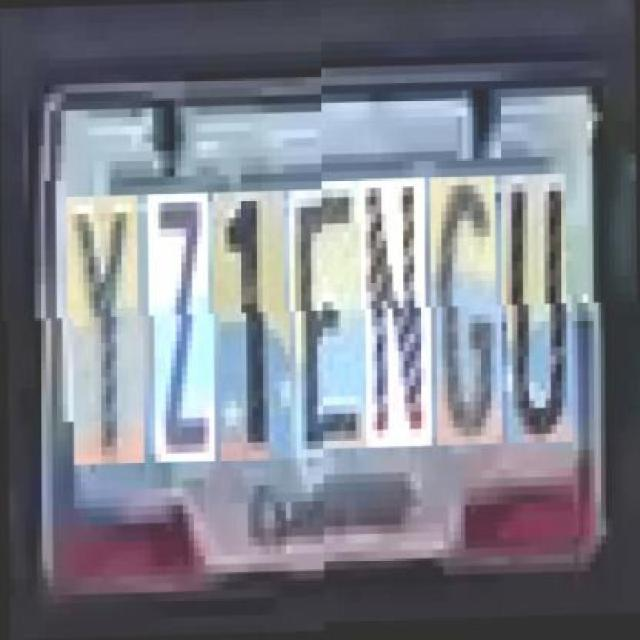1: (218, 192, 290, 462)
e: (294, 190, 366, 461)
g: (435, 187, 502, 458)
n: (364, 188, 431, 460)
u: (505, 187, 573, 456)
y: (71, 197, 144, 466)
z: (154, 194, 214, 463)
